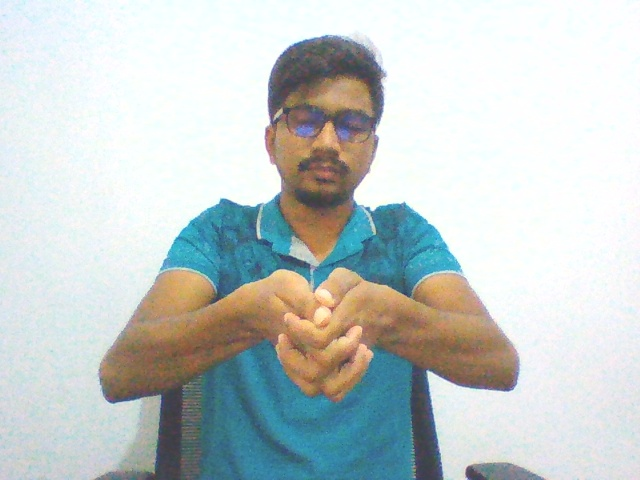mangosteen: (226, 257, 398, 409)
